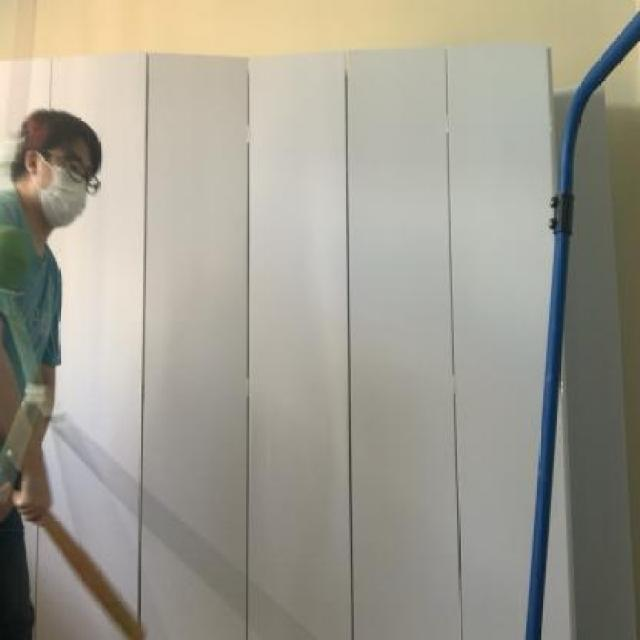baseball: (0, 209, 34, 300)
